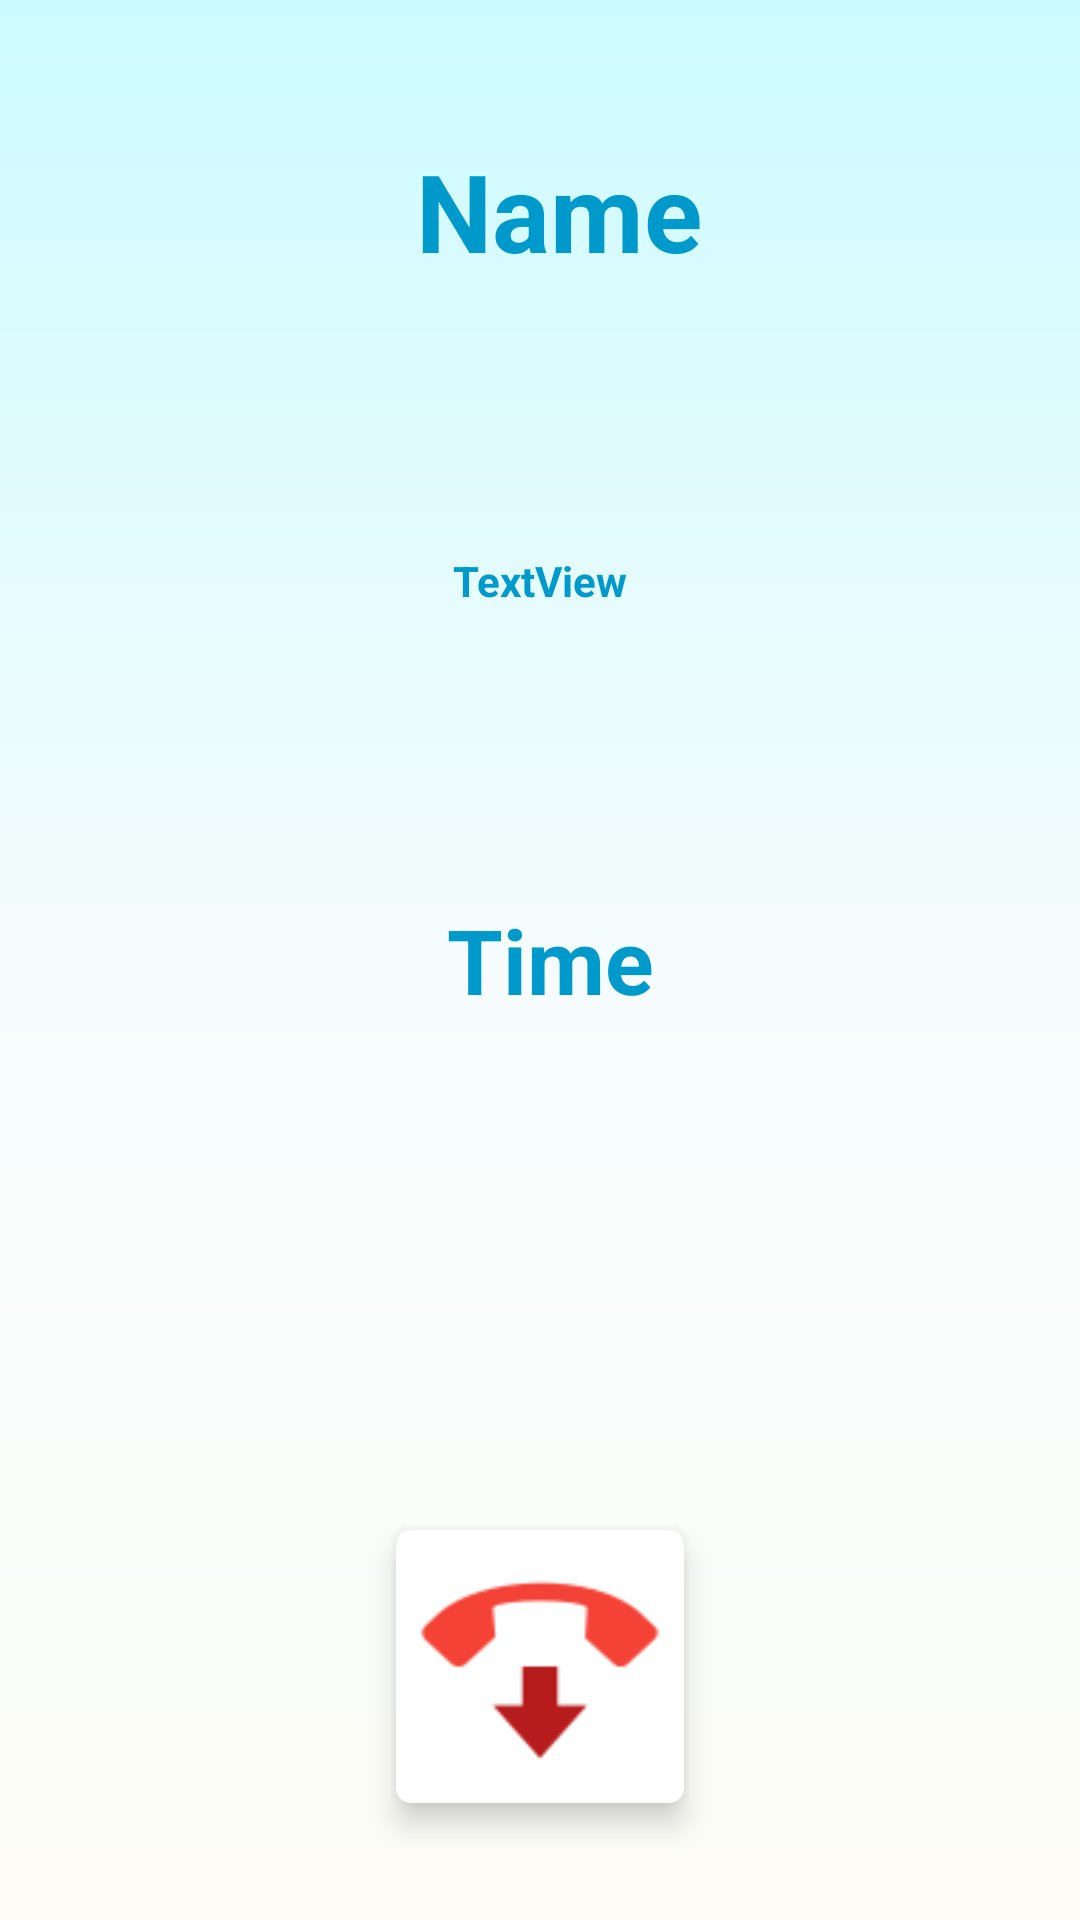

Point at icon controls on the screen. Image size 1080x1920, points as [x,y].
phoneend: [540,1666]
